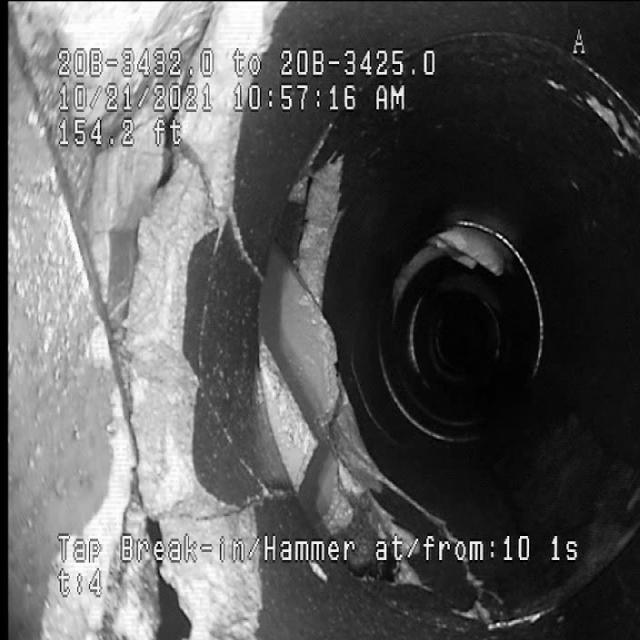Fracture: (44, 160, 250, 588)
